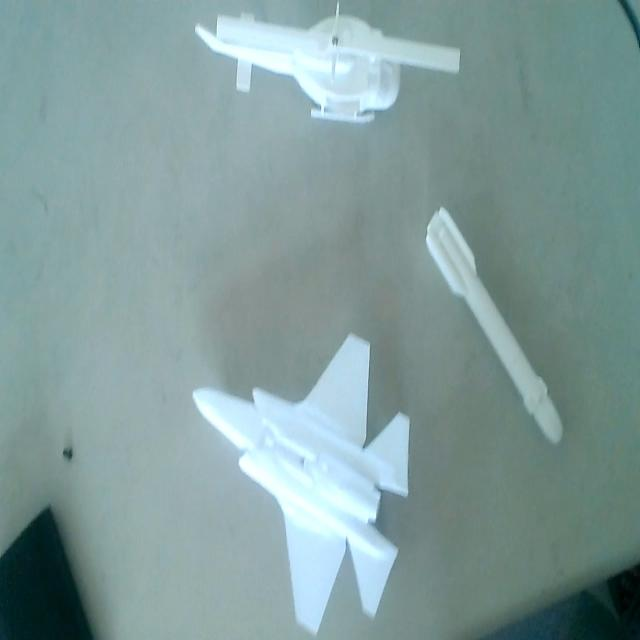Helicopter: (194, 5, 461, 130)
Jet: (188, 328, 412, 634)
Rocket: (422, 201, 568, 450)
